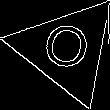O_S: (40, 20, 94, 78)
